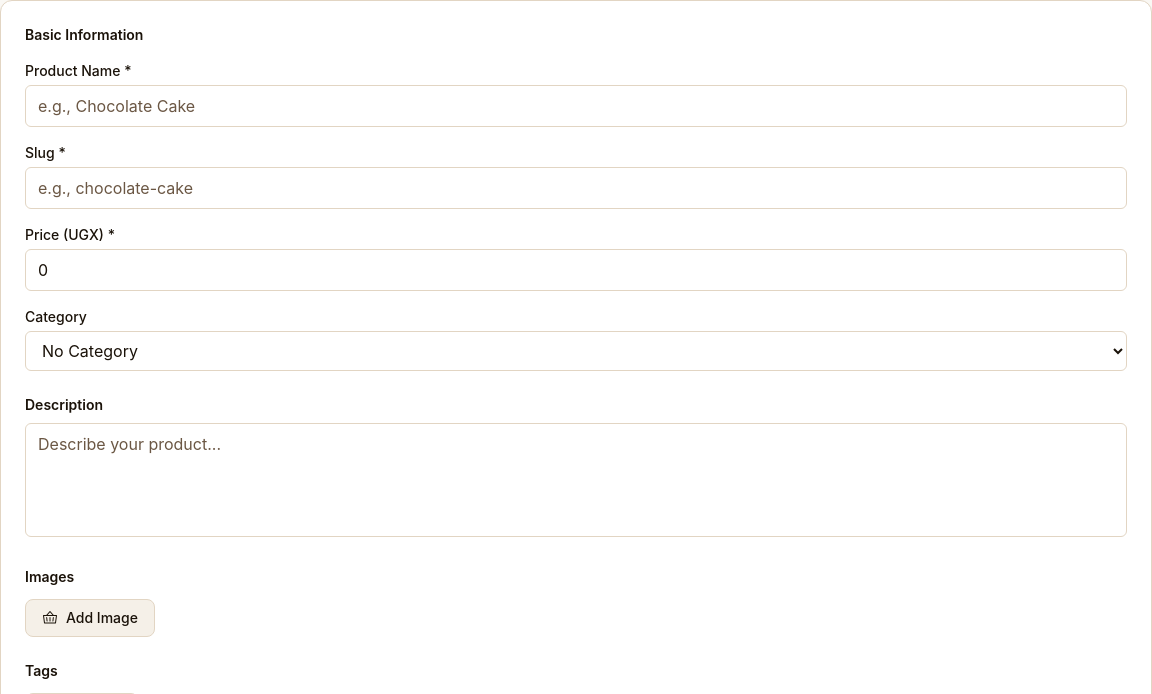
Test: ProductForm › Auto-slug generation › auto-populates slug from name on create mode
The width and height of the screenshot is (1152, 694).
Step 1. Type "Chocolate Cake" into the field labelled "Product Name *" → (576, 106), box left=25, top=85, right=1127, bottom=127
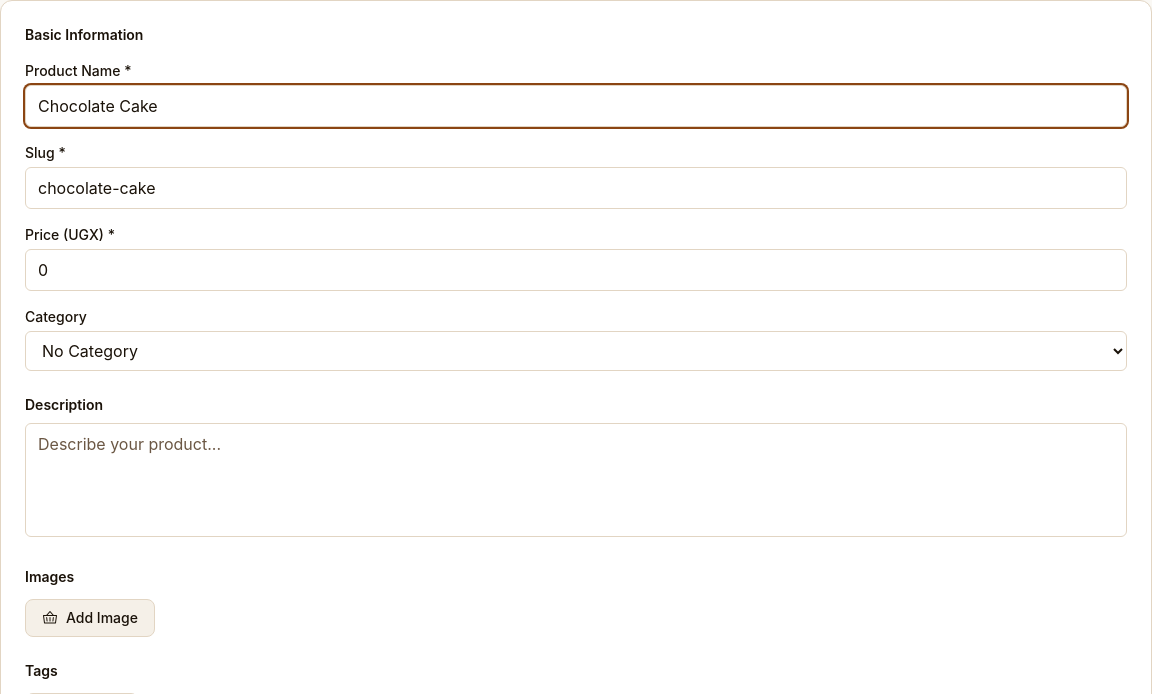
Expected: the field labelled "Slug *" holds "chocolate-cake", left=25, top=167, right=1127, bottom=209
